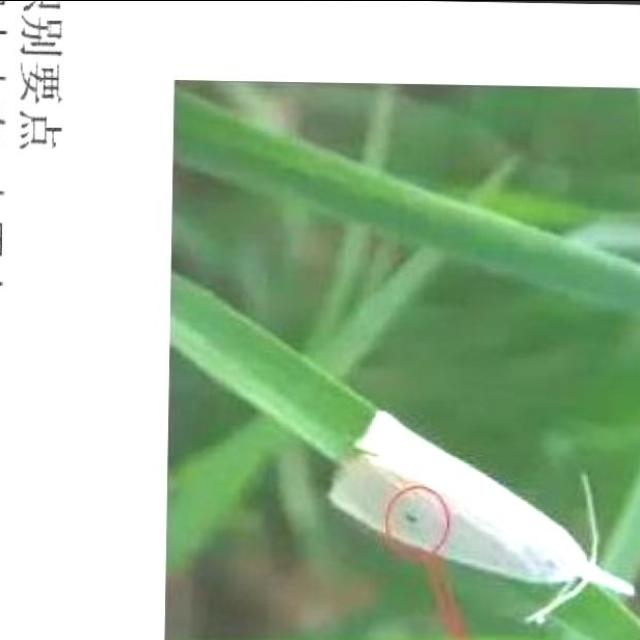stem borer: (330, 409, 635, 621)
